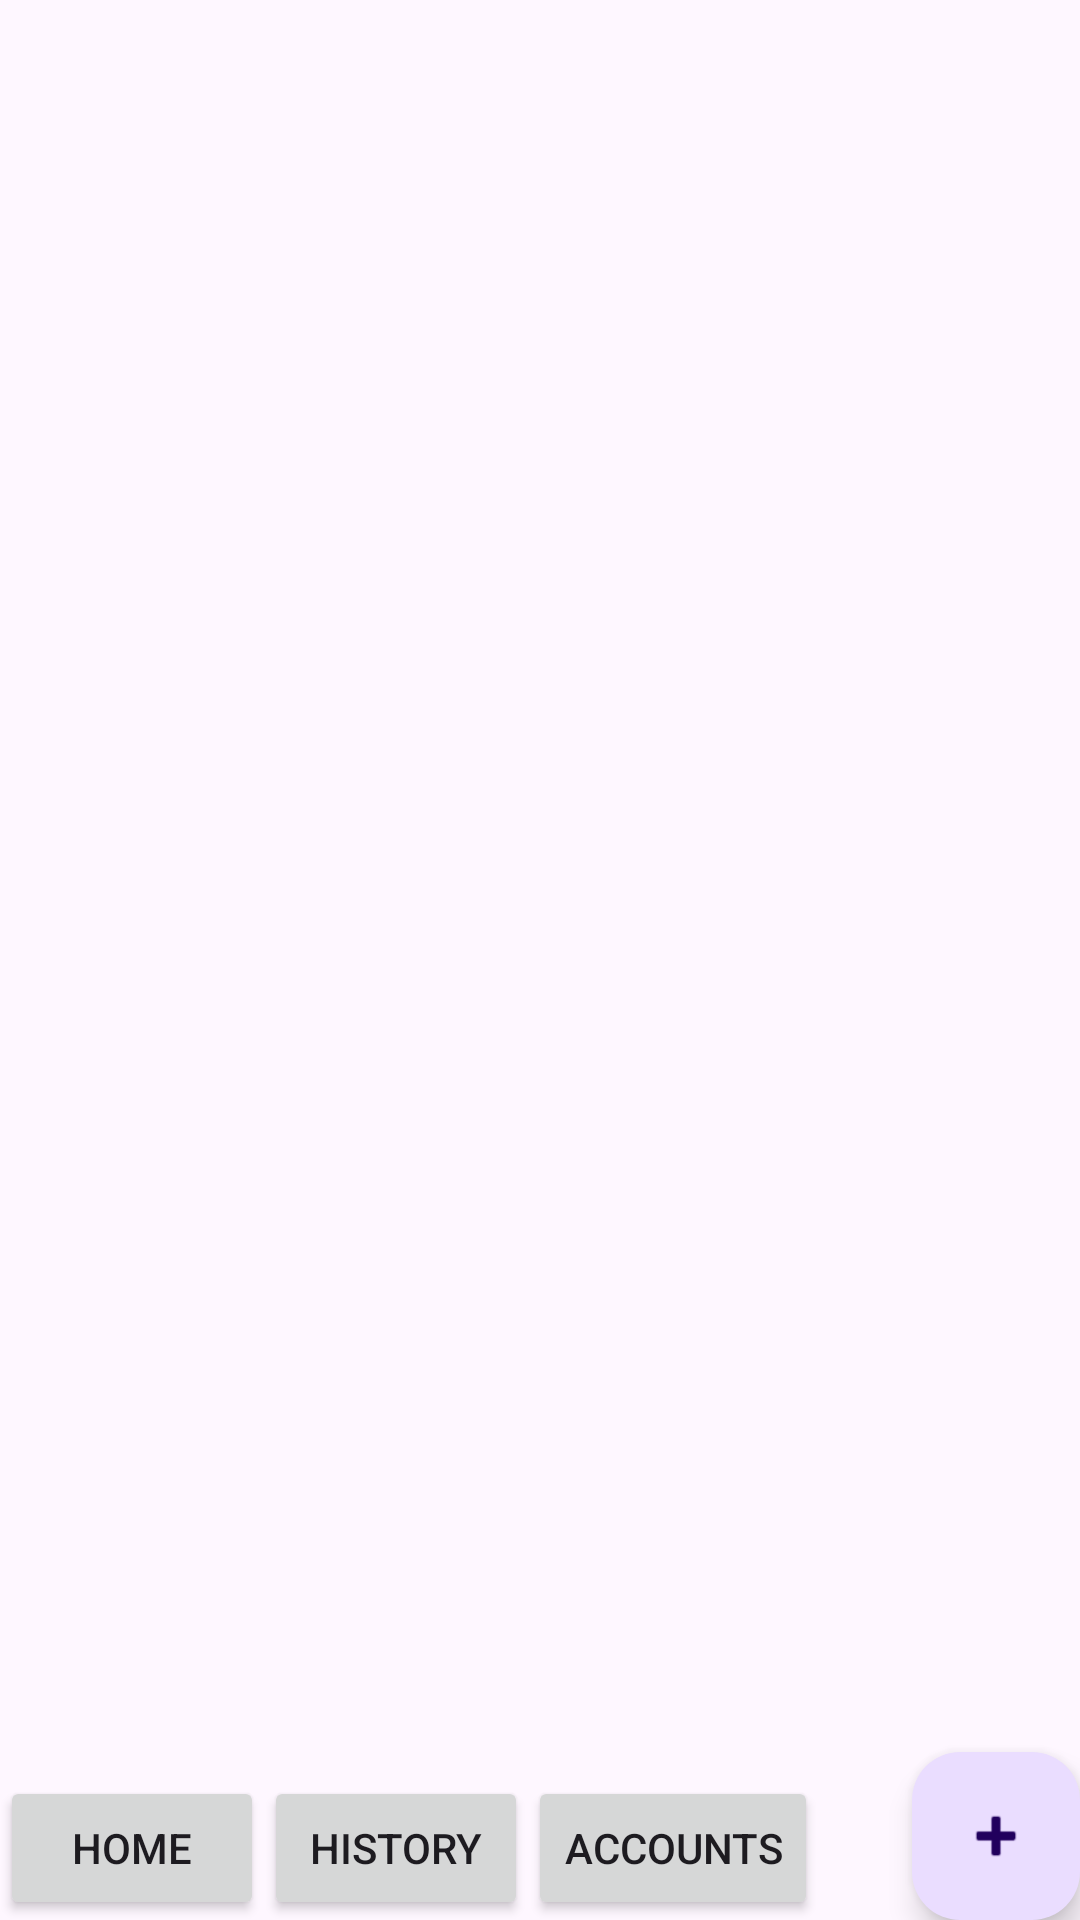

Icon bounding boxes for this 1080 × 1920 phone screenshot, format (x1, y1, x2, y2):
add: (912, 1752, 1080, 1920)
